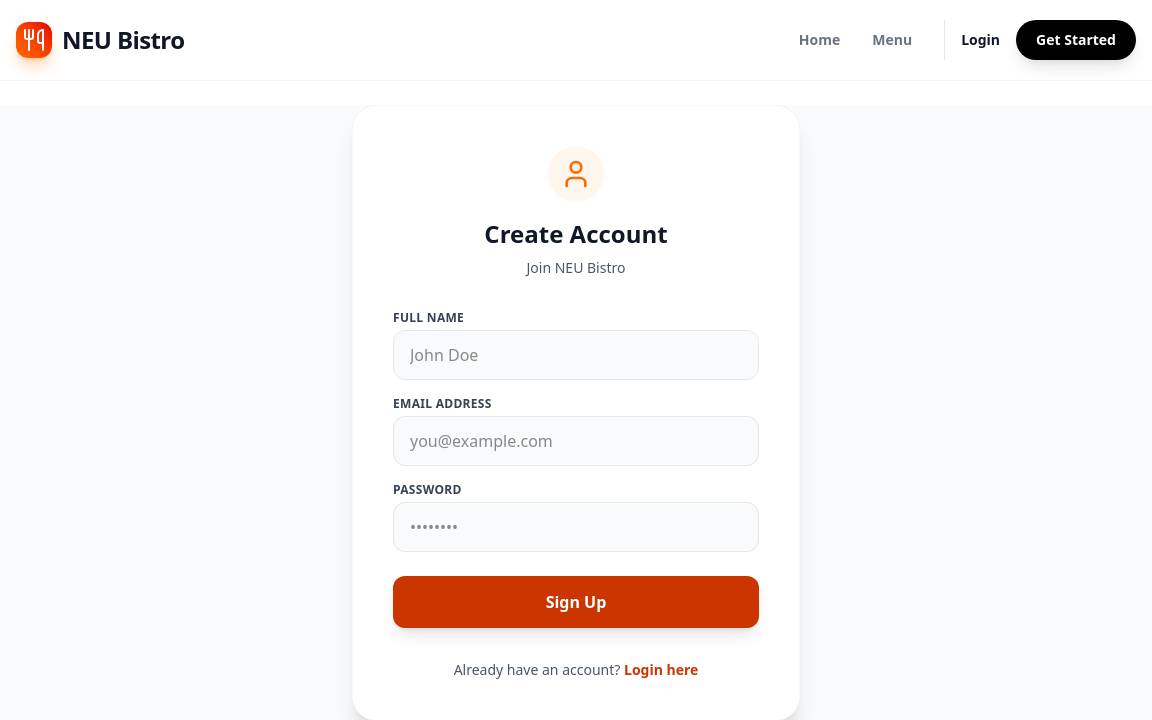
it: NEU Bistro App Tests › navigates to Menu page successfully
Click the link "Menu".
click(892, 40)  # box 872,30 -> 912,50
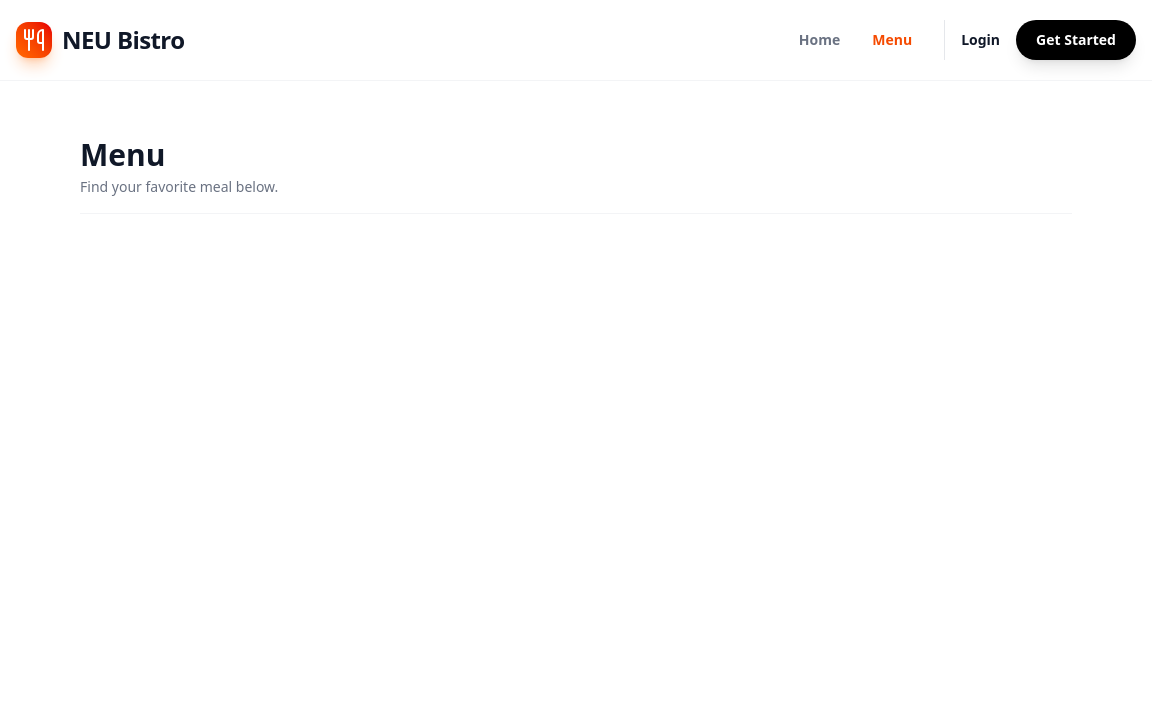
Check: the heading "Menu" is shown, box 80,134 -> 166,175
